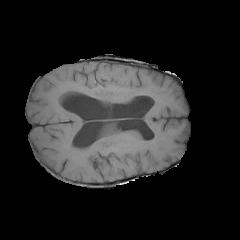glioma: (55, 65, 156, 102)
